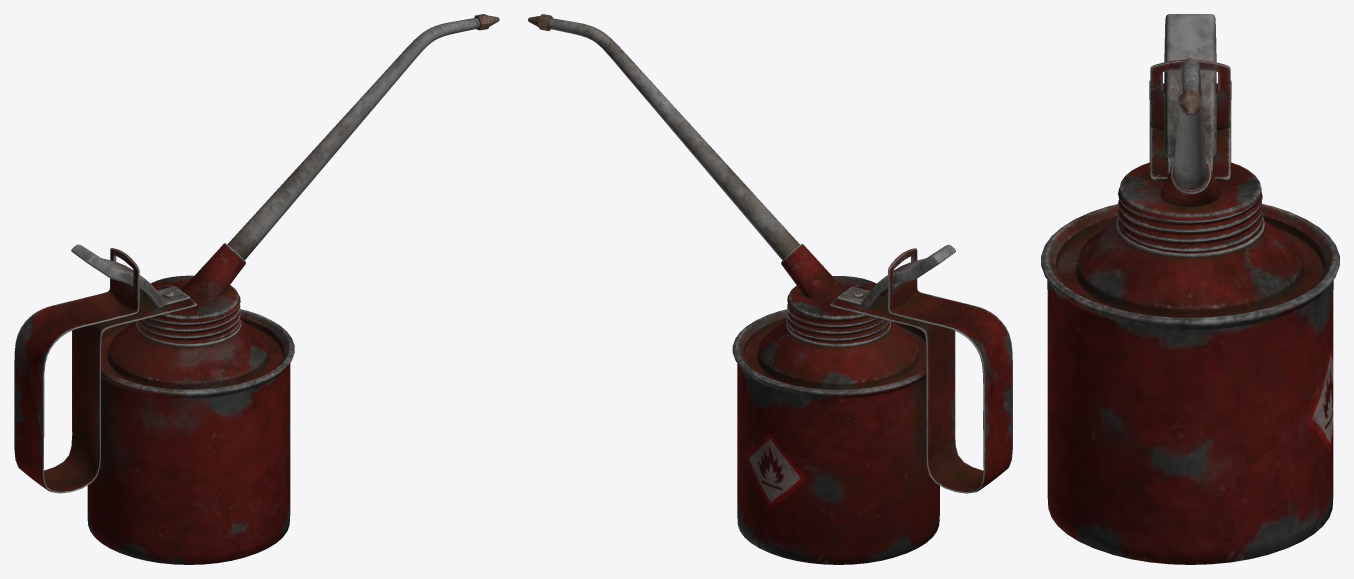
File: oilcan.glb
The picture shows the model from 3 angles, left to right: view 1: azimuth 30°, elevation 25°; view 2: azimuth 150°, elevation 25°; view 3: azimuth 270°, elevation 25°; orthographic projection. The views are drawn at different scales.
Parts seen in each view (by area): view 1: small_oil_can_01; view 2: small_oil_can_01; view 3: small_oil_can_01.
Part boxes in pixels (left/top/right/bottom): small_oil_can_01: left=14, top=14, right=499, bottom=564; small_oil_can_01: left=528, top=14, right=1012, bottom=564; small_oil_can_01: left=1041, top=14, right=1339, bottom=564.
Bounding box in the file's own units: 0.2661 × 0.2368 × 0.1039.
1 material, 1 textured.
